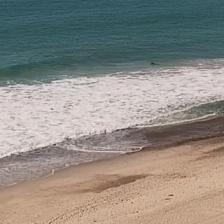surfer: (150, 61, 158, 65)
